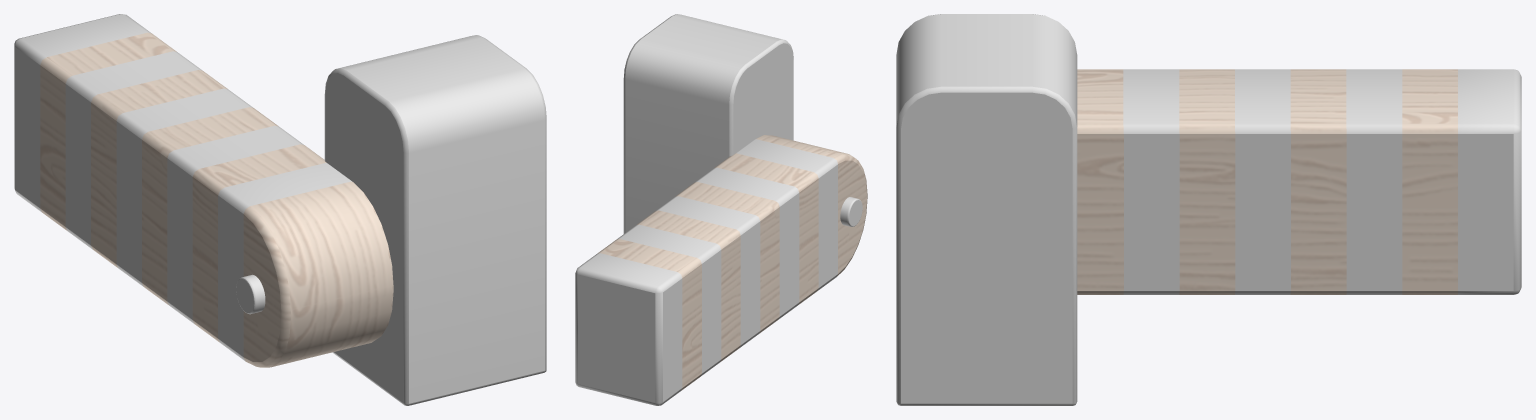
The model's file is gate_new.fbx.
3 views of the same model, side by side, from view 1: azimuth 30°, elevation 25°; view 2: azimuth 150°, elevation 25°; view 3: azimuth 270°, elevation 25° (orthographic). The views are drawn at different scales.
Visible parts, largest first — view 1: Cube.002, Gate, Cylinder.002; view 2: Cube.002, Gate, Cylinder.002; view 3: Cube.002, Gate.
Part boxes in pixels (x1,y1,x2,y2): Cube.002: [14, 14, 393, 367]; Gate: [324, 35, 546, 405]; Cylinder.002: [236, 274, 265, 314]; Cube.002: [575, 135, 867, 405]; Gate: [623, 14, 793, 233]; Cylinder.002: [840, 197, 862, 226]; Cube.002: [1077, 69, 1521, 294]; Gate: [896, 14, 1077, 405].
Bounding box in the file's own units: 149 × 158 × 280.
Materials: 3 (1 with a texture image).
